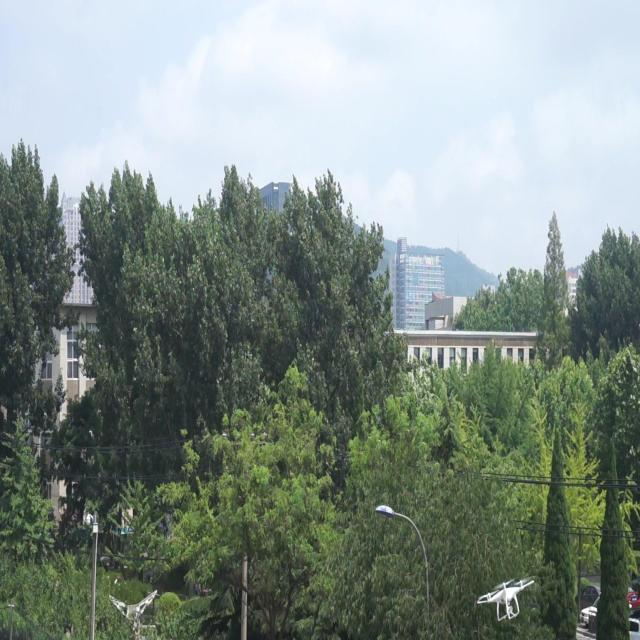drone: (475, 575, 537, 624)
